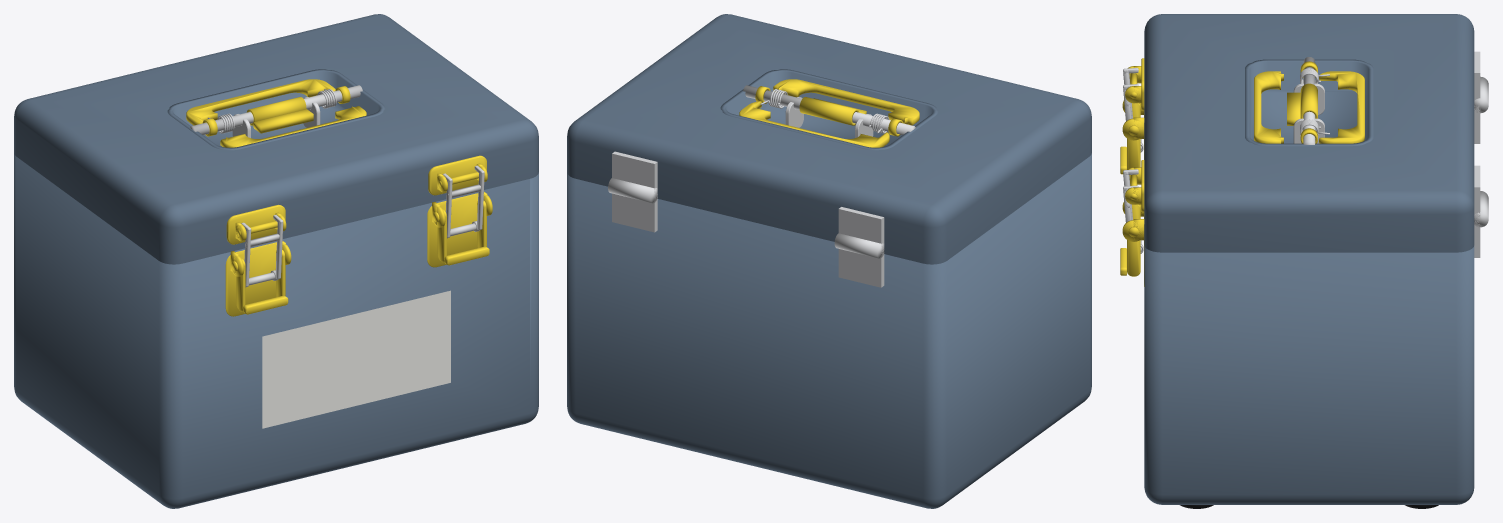
File: TubeCase.glb
3 renders of one model, left to right at view 1: azimuth 30°, elevation 25°; view 2: azimuth 150°, elevation 25°; view 3: azimuth 270°, elevation 25°, orthographic. The views are drawn at different scales.
Visible parts, largest first — view 1: Case_Body, Case_Lid, LabelSurface, Handle_Recess, Latch_Catches, Latch_Base_1, Latch_Base_2, Lid_Handle, Lid_Handle_B, Latch_Lever_1, Latch_Lever_2, Handle_Pin (+2 smaller); view 2: Case_Body, Case_Lid, Handle_Recess, Lid_Handle, Hinge_Leaf_Body, Hinge_Leaf_Lid, Hinge_Barrels, Lid_Handle_B, Handle_Pin, Handle_Brackets; view 3: Case_Body, Case_Lid, Handle_Recess, Lid_Handle, Lid_Handle_B, Latch_Catches, Latch_Lever_2, Hinge_Barrels, Hinge_Leaf_Lid, Latch_Lever_1, Handle_Brackets, Latch_Base_2 (+5 smaller).
Part boxes in pixels (left/top/right/bottom): Case_Body: left=14, top=153, right=538, bottom=508; Case_Lid: left=14, top=14, right=538, bottom=264; LabelSurface: left=262, top=290, right=450, bottom=428; Handle_Recess: left=167, top=69, right=385, bottom=150; Latch_Catches: left=226, top=155, right=487, bottom=244; Latch_Base_1: left=225, top=241, right=291, bottom=316; Latch_Base_2: left=427, top=191, right=492, bottom=267; Lid_Handle: left=220, top=97, right=366, bottom=147; Lid_Handle_B: left=186, top=79, right=350, bottom=136; Latch_Lever_1: left=236, top=249, right=288, bottom=314; Latch_Lever_2: left=437, top=200, right=489, bottom=265; Handle_Pin: left=190, top=85, right=362, bottom=134; Case_Body: left=567, top=153, right=1091, bottom=508; Case_Lid: left=567, top=14, right=1091, bottom=264; Handle_Recess: left=720, top=69, right=938, bottom=150; Lid_Handle: left=773, top=79, right=919, bottom=125; Hinge_Leaf_Body: left=612, top=193, right=884, bottom=287; Hinge_Leaf_Lid: left=612, top=151, right=884, bottom=254; Hinge_Barrels: left=608, top=178, right=884, bottom=258; Lid_Handle_B: left=739, top=86, right=903, bottom=147; Handle_Pin: left=743, top=85, right=915, bottom=134; Handle_Brackets: left=785, top=97, right=873, bottom=137; Case_Body: left=1144, top=246, right=1474, bottom=504; Case_Lid: left=1144, top=14, right=1474, bottom=252; Handle_Recess: left=1245, top=59, right=1373, bottom=146; Lid_Handle: left=1254, top=71, right=1317, bottom=143; Lid_Handle_B: left=1300, top=61, right=1364, bottom=143; Latch_Catches: left=1125, top=58, right=1144, bottom=212; Latch_Lever_2: left=1120, top=204, right=1140, bottom=276; Hinge_Barrels: left=1474, top=76, right=1488, bottom=227; Hinge_Leaf_Lid: left=1474, top=51, right=1480, bottom=224; Latch_Lever_1: left=1120, top=103, right=1140, bottom=174; Handle_Brackets: left=1293, top=83, right=1324, bottom=143; Latch_Base_2: left=1122, top=202, right=1144, bottom=286.
Bounding box in the file's own units: 0.3 × 0.2413 × 0.2455.
